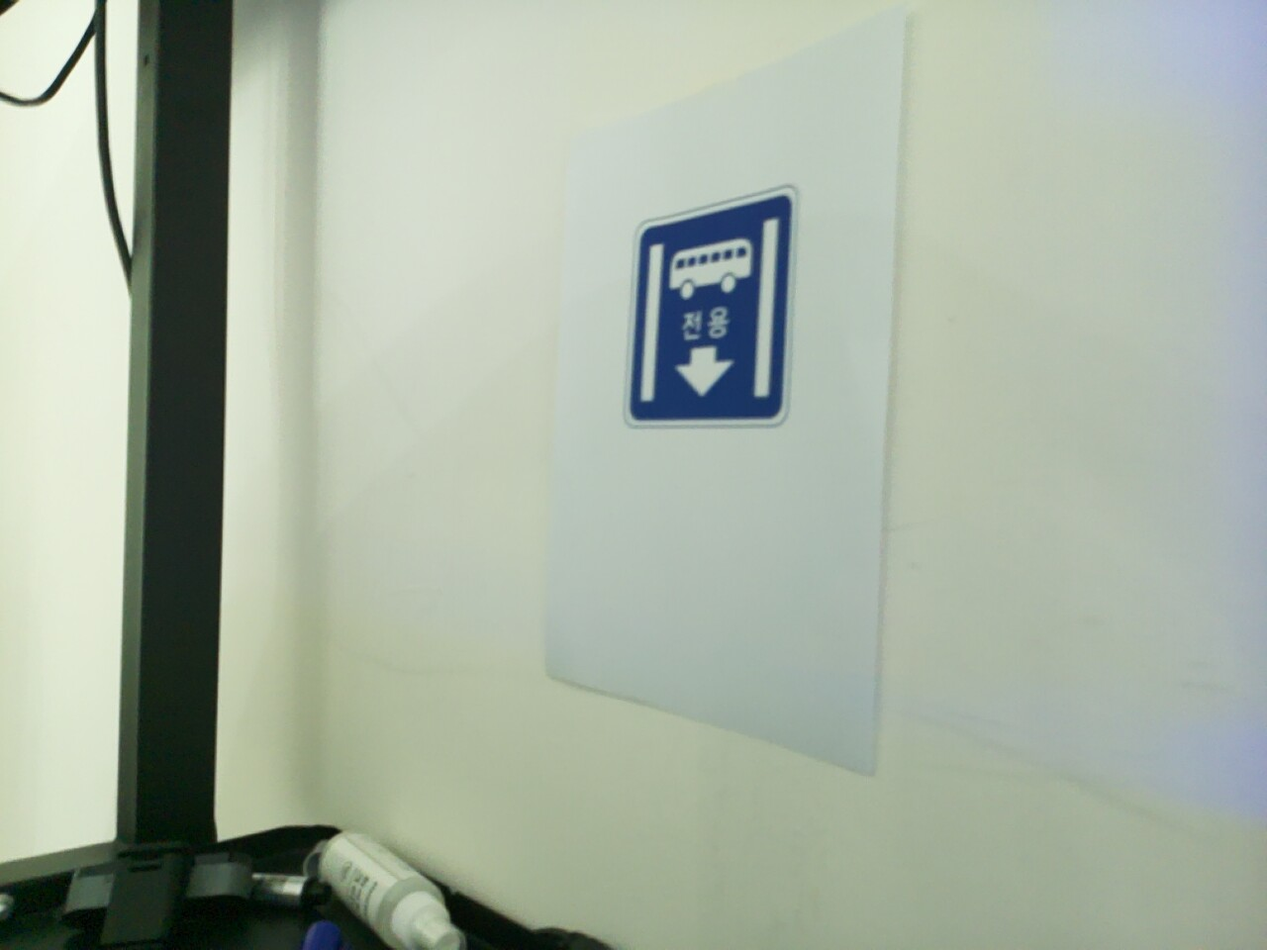bus_only_lane: (623, 187, 799, 428)
